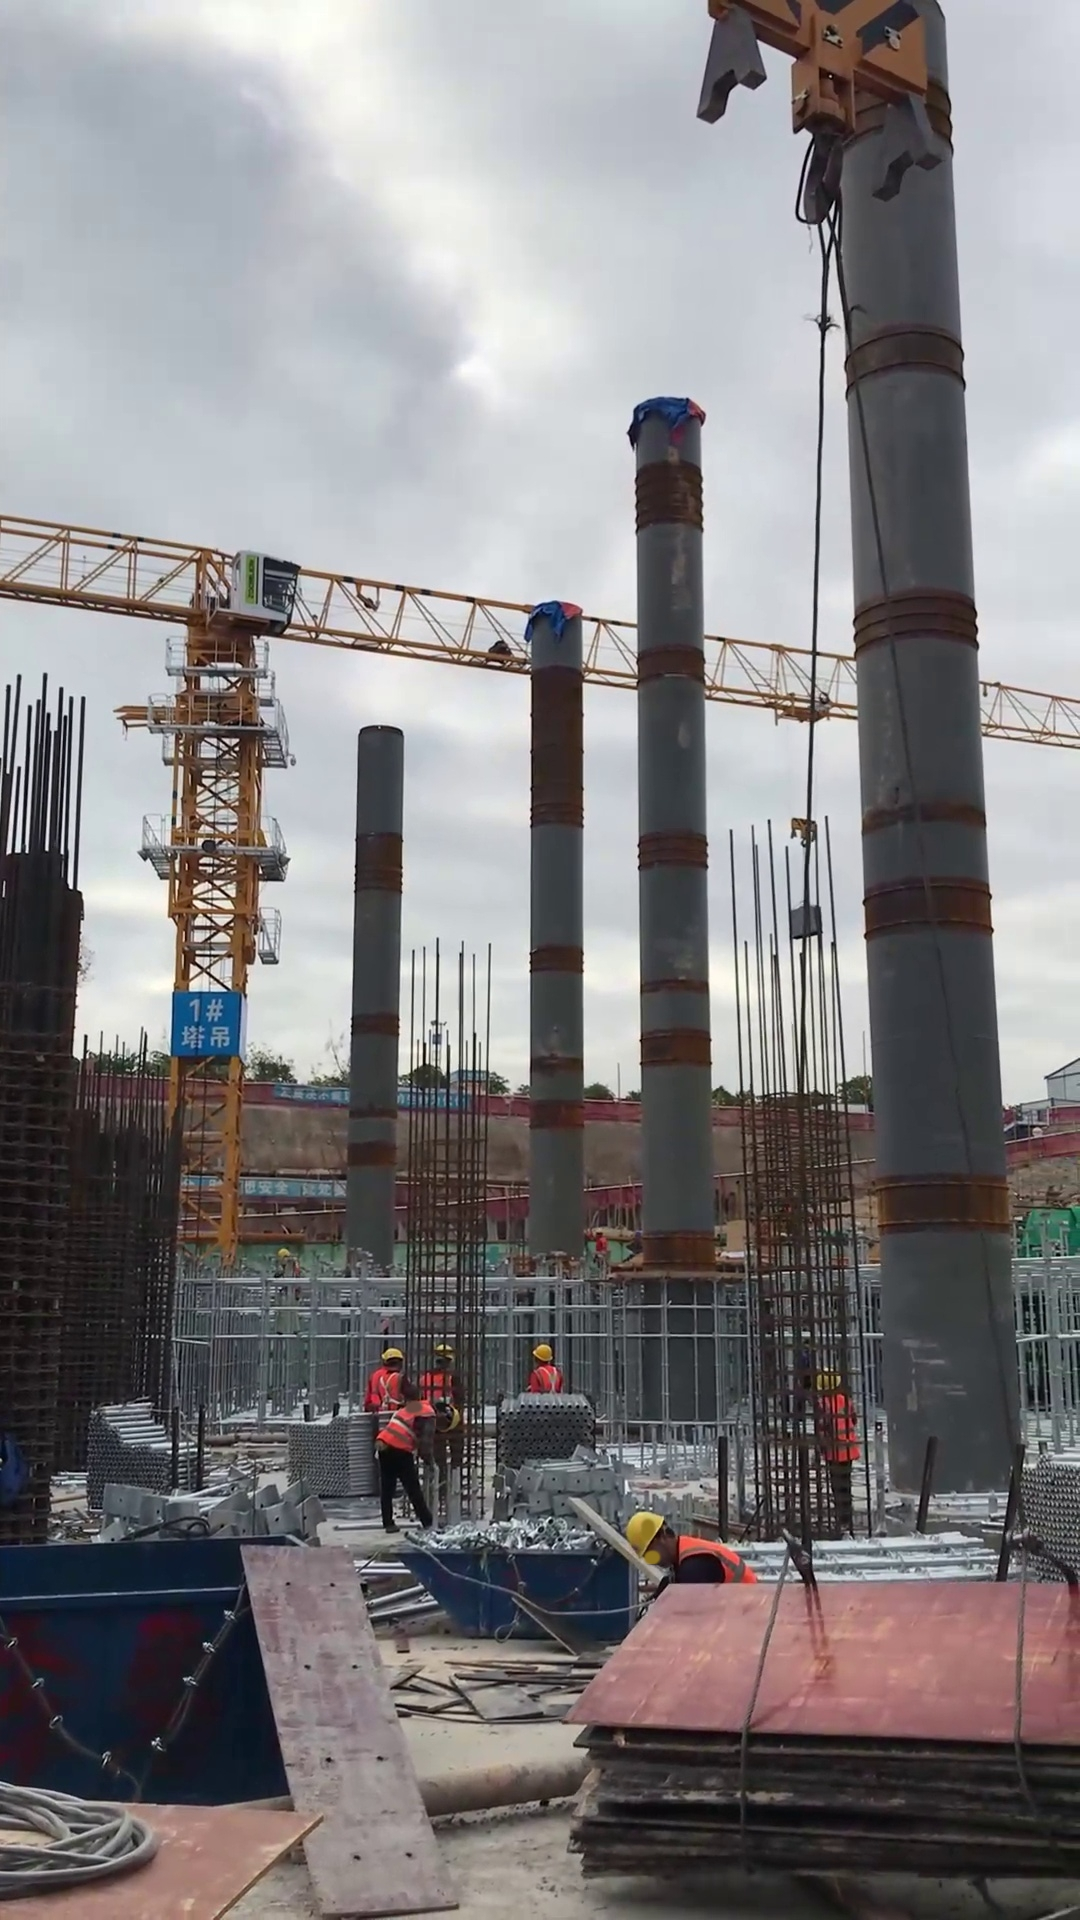board: (565, 1575, 1080, 1880)
helmet: (623, 1509, 666, 1562), (436, 1400, 462, 1435), (814, 1364, 842, 1393), (433, 1340, 458, 1364), (530, 1343, 555, 1365), (378, 1347, 406, 1366), (277, 1245, 291, 1263), (595, 1224, 606, 1237)
hook: (694, 1, 942, 228), (787, 815, 820, 851)
hopper: (1, 1531, 321, 1806), (390, 1539, 642, 1641)
person: (371, 1398, 462, 1537), (622, 1508, 765, 1585), (808, 1363, 862, 1543), (420, 1341, 466, 1502), (365, 1344, 418, 1410), (526, 1343, 566, 1394), (275, 1244, 306, 1308), (593, 1222, 609, 1272)
scaffold: (84, 1398, 214, 1511), (725, 1532, 1010, 1582), (1008, 1449, 1080, 1583), (286, 1410, 383, 1499), (494, 1390, 599, 1467)
slogan: (272, 1083, 470, 1115), (170, 989, 239, 1056), (179, 1176, 348, 1202)
vest: (672, 1531, 760, 1585), (814, 1394, 861, 1465), (376, 1403, 436, 1452), (366, 1365, 406, 1413), (419, 1368, 453, 1405), (531, 1364, 563, 1393), (595, 1235, 608, 1258)
